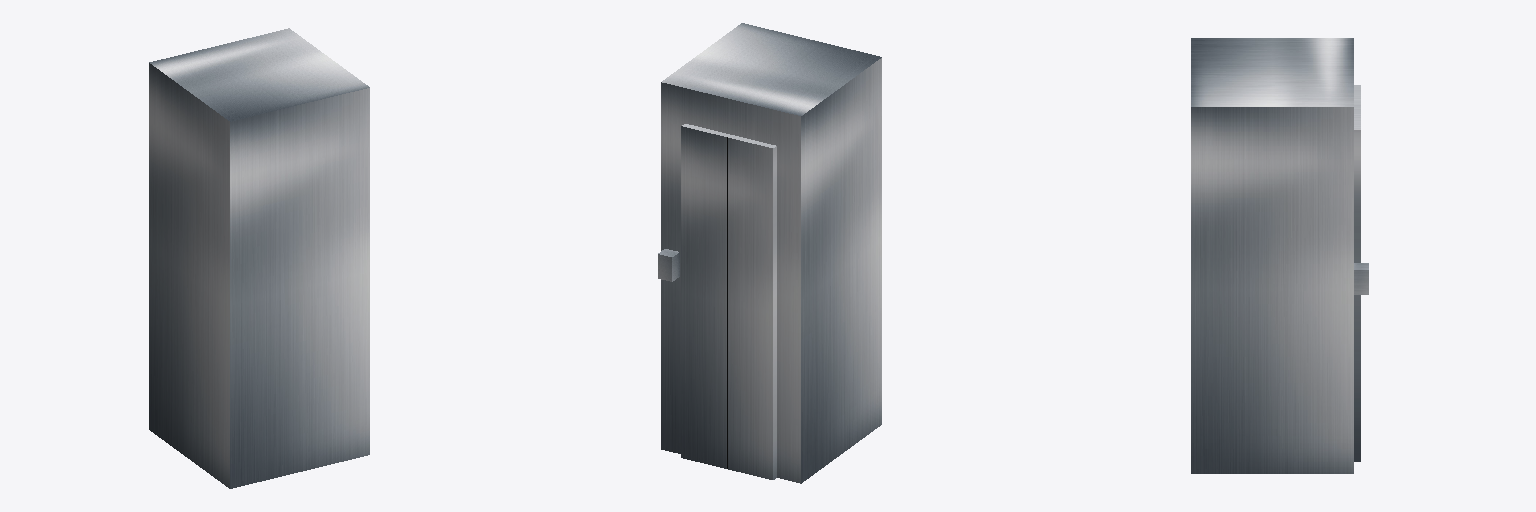
3 renders of one model, left to right at view 1: azimuth 30°, elevation 25°; view 2: azimuth 150°, elevation 25°; view 3: azimuth 270°, elevation 25°, orthographic.
Parts seen in each view (by area): view 1: 1x1x2,5; view 2: 1x1x2,5, Cube.001_Cube.007; view 3: 1x1x2,5.
Boxes of the visible parts, x1=… form: 1x1x2,5: x1=149, y1=28, x2=369, y2=488; 1x1x2,5: x1=661, y1=23, x2=881, y2=483; Cube.001_Cube.007: x1=658, y1=249, x2=679, y2=281; 1x1x2,5: x1=1191, y1=38, x2=1360, y2=473.
Bounding box in the file's own units: 1 × 2.5 × 1.09.
Materials: 12 (3 with a texture image).